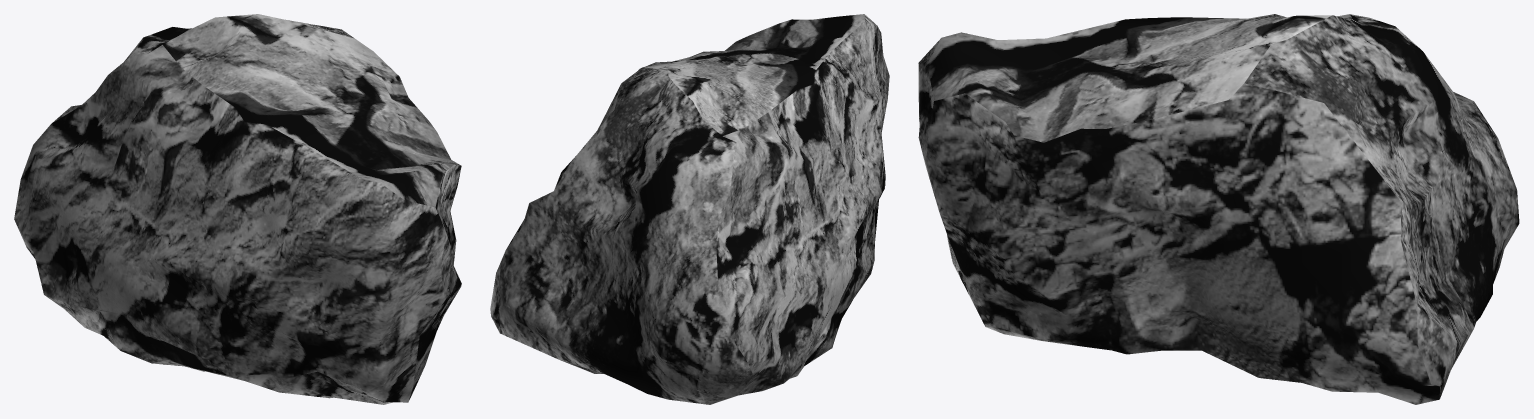
Rendered from roca.obj.
The picture shows the model from 3 angles, left to right: view 1: azimuth 30°, elevation 25°; view 2: azimuth 150°, elevation 25°; view 3: azimuth 270°, elevation 25°; orthographic projection. The views are drawn at different scales.
Parts seen in each view (by area): view 1: rock; view 2: rock; view 3: rock.
Boxes of the visible parts, bbox=[...] form: rock: bbox=[14, 14, 461, 404]; rock: bbox=[490, 14, 889, 404]; rock: bbox=[918, 14, 1519, 404].
Bounding box in the file's own units: 6.75 × 5.89 × 10.03.
Materials: 1 (1 with a texture image).
